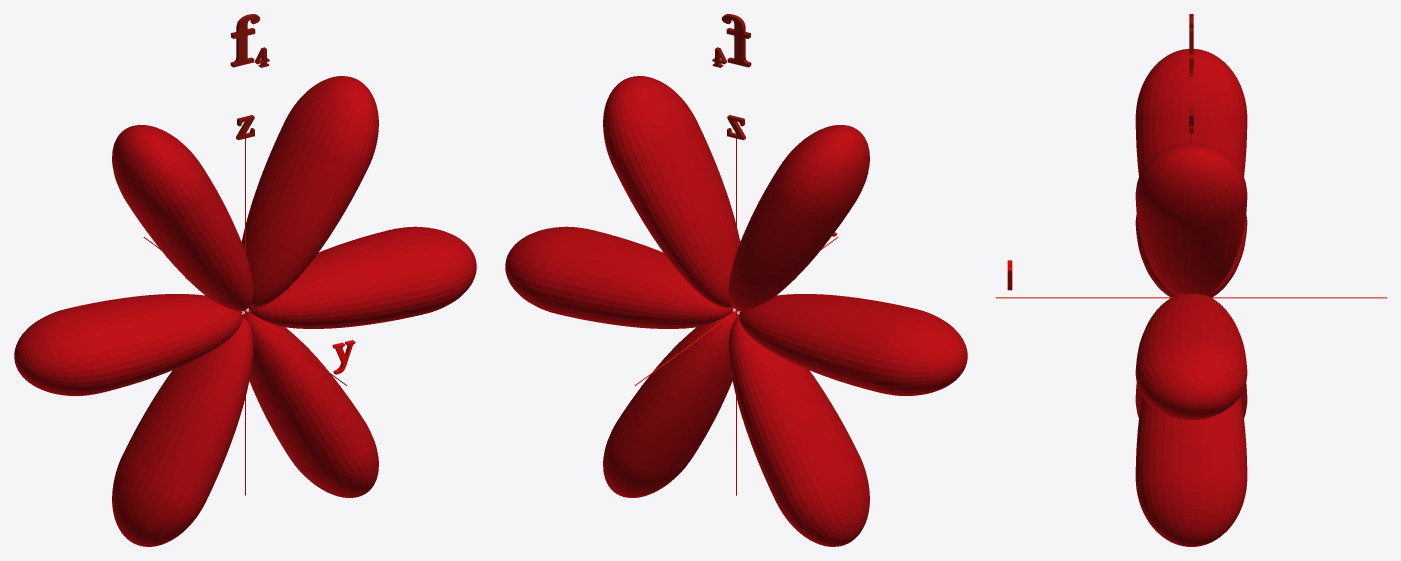
3 renders of one model, left to right at view 1: azimuth 30°, elevation 25°; view 2: azimuth 150°, elevation 25°; view 3: azimuth 270°, elevation 25°, orthographic. The views are drawn at different scales.
Visible parts, largest first — view 1: Mesh_Mesh_head_geo001_lambert2SG001; view 2: Mesh_Mesh_head_geo001_lambert2SG001; view 3: Mesh_Mesh_head_geo001_lambert2SG001.
Boxes of the visible parts, box(x1,y1,x2,y2) form: Mesh_Mesh_head_geo001_lambert2SG001: box(14, 14, 476, 546); Mesh_Mesh_head_geo001_lambert2SG001: box(505, 14, 967, 546); Mesh_Mesh_head_geo001_lambert2SG001: box(996, 14, 1386, 546).
Size of the model in its own units: 108 by 115 by 84.
